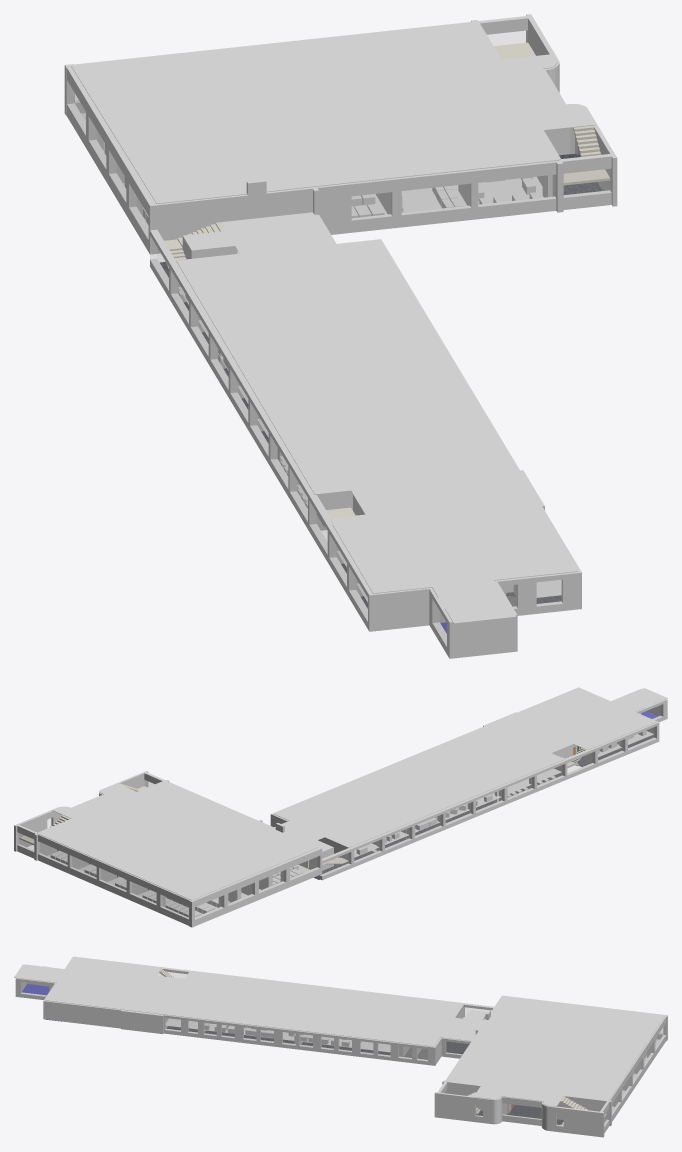
3 views of the same model, one above another, from view 1: azimuth 30°, elevation 25°; view 2: azimuth 150°, elevation 25°; view 3: azimuth 270°, elevation 25° (orthographic). The views are drawn at different scales.
Visible parts, largest first — view 1: 4.129, 5.189, 3.524, 3.568, 3.696, 63020.0, 3.537, 3.697, 305, 301, 309, 311 (+24 smaller); view 2: 4.129, 5.189, 1.499, 3.556, 303, 314, 315, 301, 302, 313, 303а, 310 (+12 smaller); view 3: 4.129, 5.189, 3.564, 3.556, 3.538, 1.499, 3.557, 3.705, 1.498, 3.558, 303а, 307 (+24 smaller).
Part boxes in pixels (x1,y1,x2,y2): 4.129: (176,212,578,623); 5.189: (71,21,595,203); 3.524: (148,194,247,254); 3.568: (368,587,445,631); 3.696: (478,175,555,206); 63020.0: (401,176,543,212); 3.537: (311,183,351,234); 3.697: (402,184,470,214); 305: (132,70,199,98); 301: (413,38,480,66); 309: (191,260,258,288); 311: (220,310,287,338); 4.129: (273,688,667,851); 5.189: (37,781,318,900); 1.499: (314,738,649,879); 3.556: (14,812,47,851); 303: (93,835,128,850); 314: (402,759,437,774); 315: (498,758,533,773); 301: (61,823,96,838); 302: (154,794,189,809); 313: (436,783,472,798); 303а: (122,848,157,863); 310: (317,794,352,809); 4.129: (14,957,486,1046); 5.189: (446,997,664,1106); 3.564: (43,997,168,1033); 3.556: (563,1107,604,1137); 3.538: (434,1092,475,1121); 1.499: (46,1019,469,1055); 3.557: (483,1096,503,1124); 3.705: (502,1103,541,1118); 1.498: (476,1104,563,1124); 3.558: (541,1101,556,1131); 303а: (587,1047,621,1061); 307: (507,1001,541,1015).
Size of the model in its own units: 5974 by 607 by 9778.
